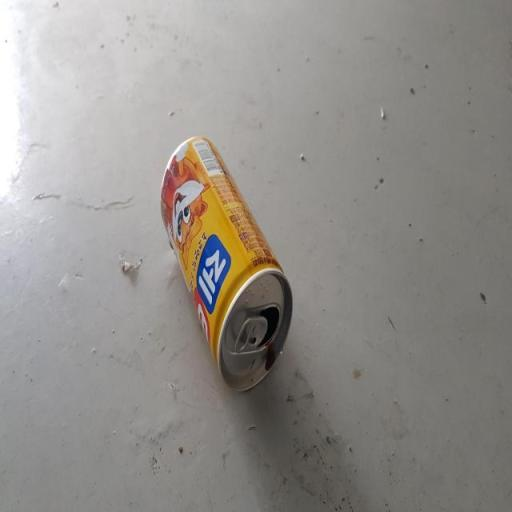metal: (151, 107, 316, 459)
